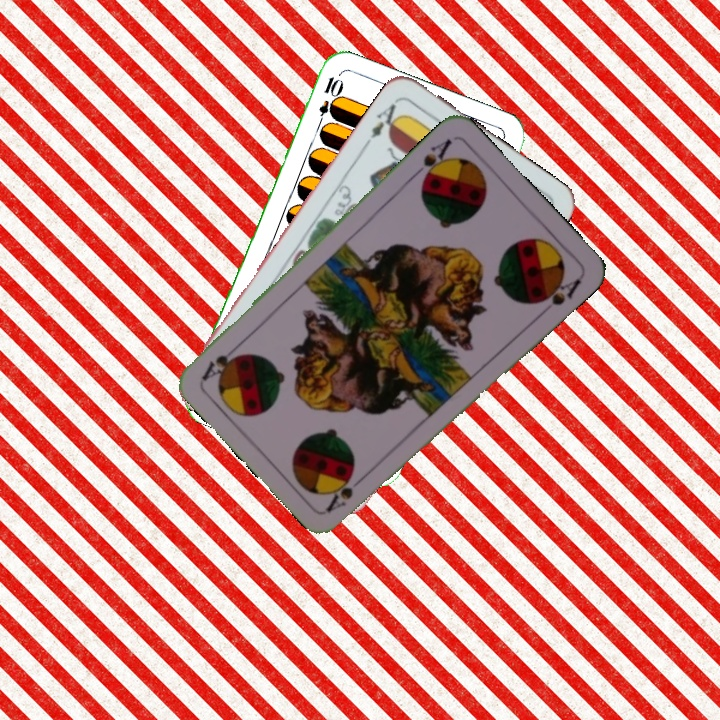E10: (313, 72, 343, 131)
EA: (361, 95, 404, 148)
SA: (408, 134, 455, 186), (322, 469, 371, 514)
